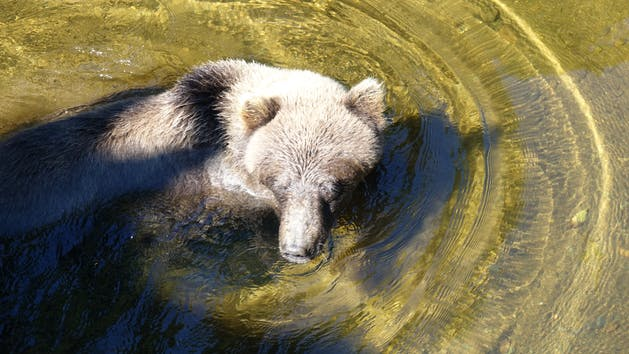bear: (238, 73, 393, 267)
